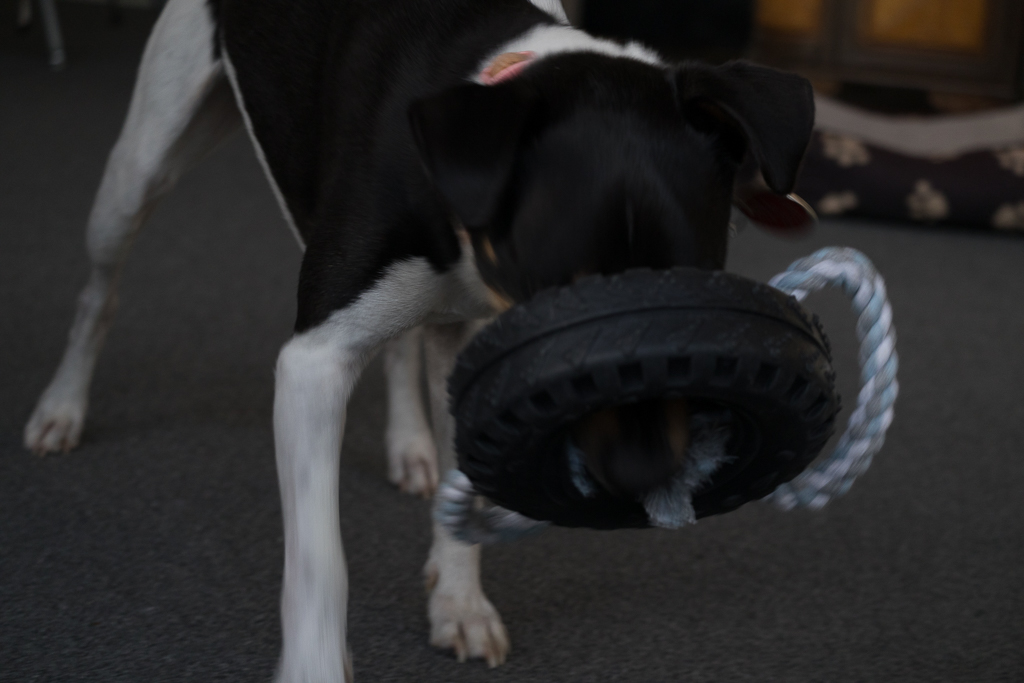Dog: (16, 0, 824, 683)
